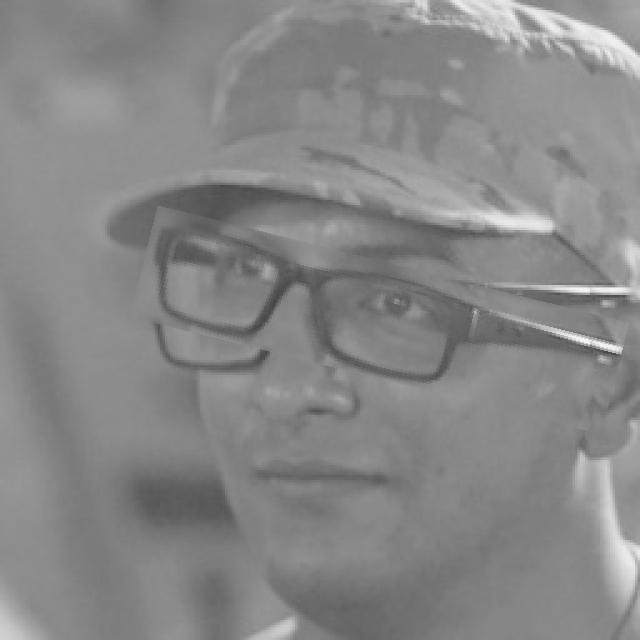glasses: (134, 234, 626, 405)
